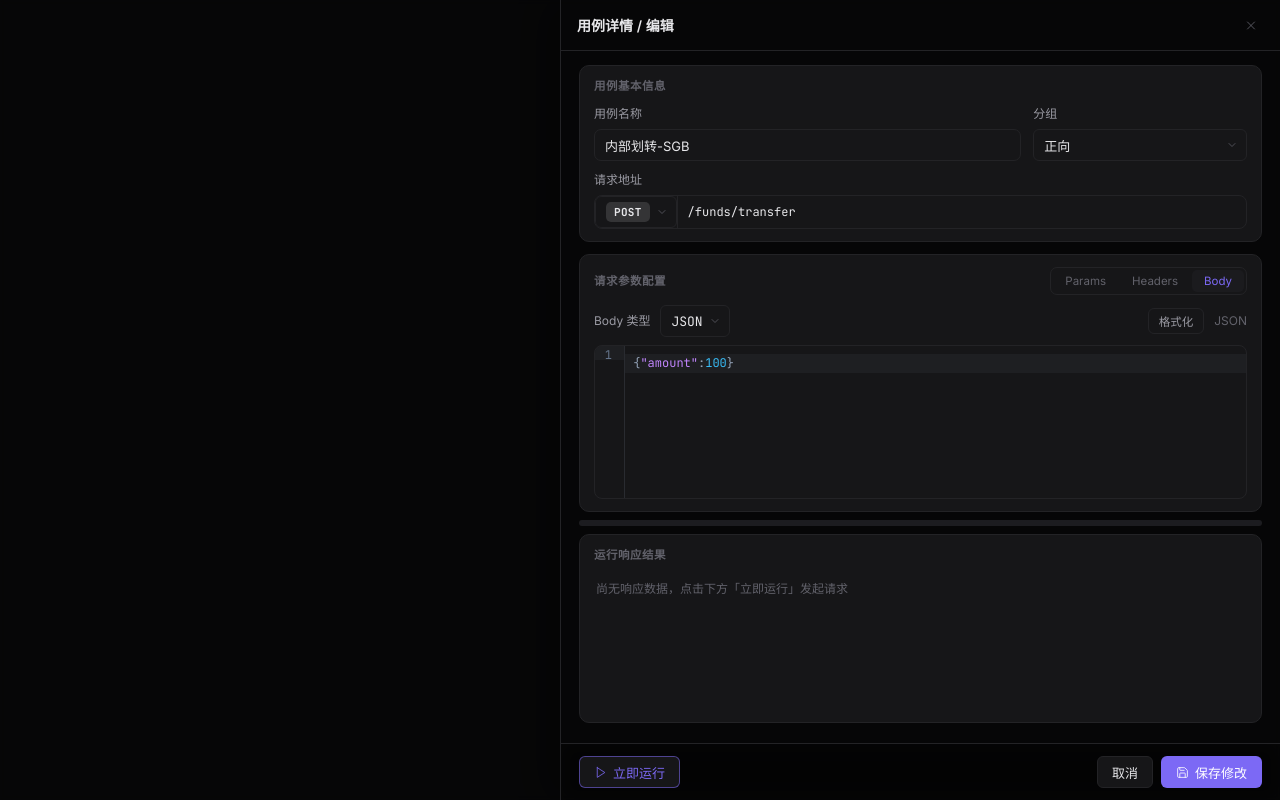
Scenario: TestCaseDrawer › Method 联动：POST 默认 Body Tab + 自动补 Content-Type；GET 默认 Params Tab + Body 提示
Expected: the tab with class "drw-tab" reads "Body", [1192,270,1244,292]
Expected: the field with class "cm-content" is shown, [625,354,1246,374]
# 自动补 Content-Type: application/json（切到 Headers Tab，输入框值可见）
Click the tab with class "drw-tab" showing "Headers" at (1155, 281), box [1120,270,1190,292]
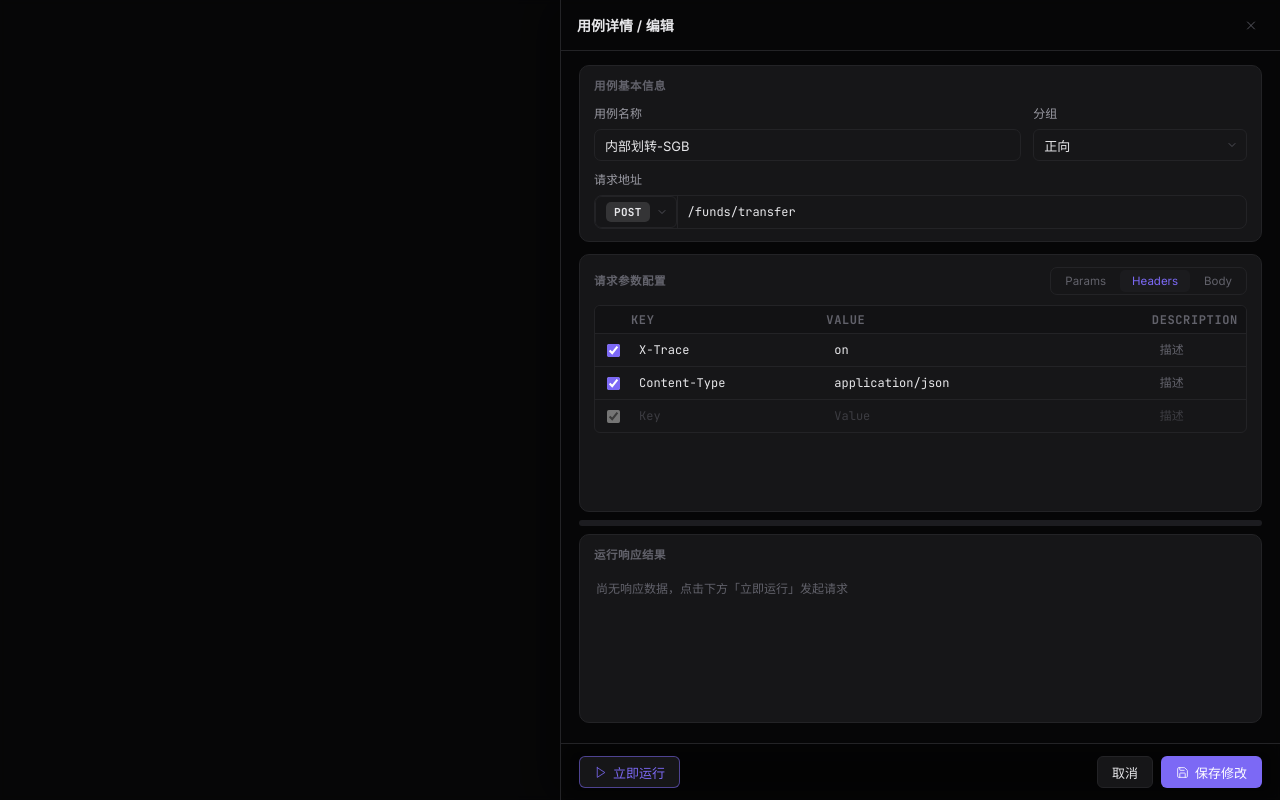
# 切到 GET → 默认 Params Tab，Body Tab 出现「不携带 Body」提示
Click the button with class "cs-trigger" showing "POST" at (636, 212), box [595,196,677,228]
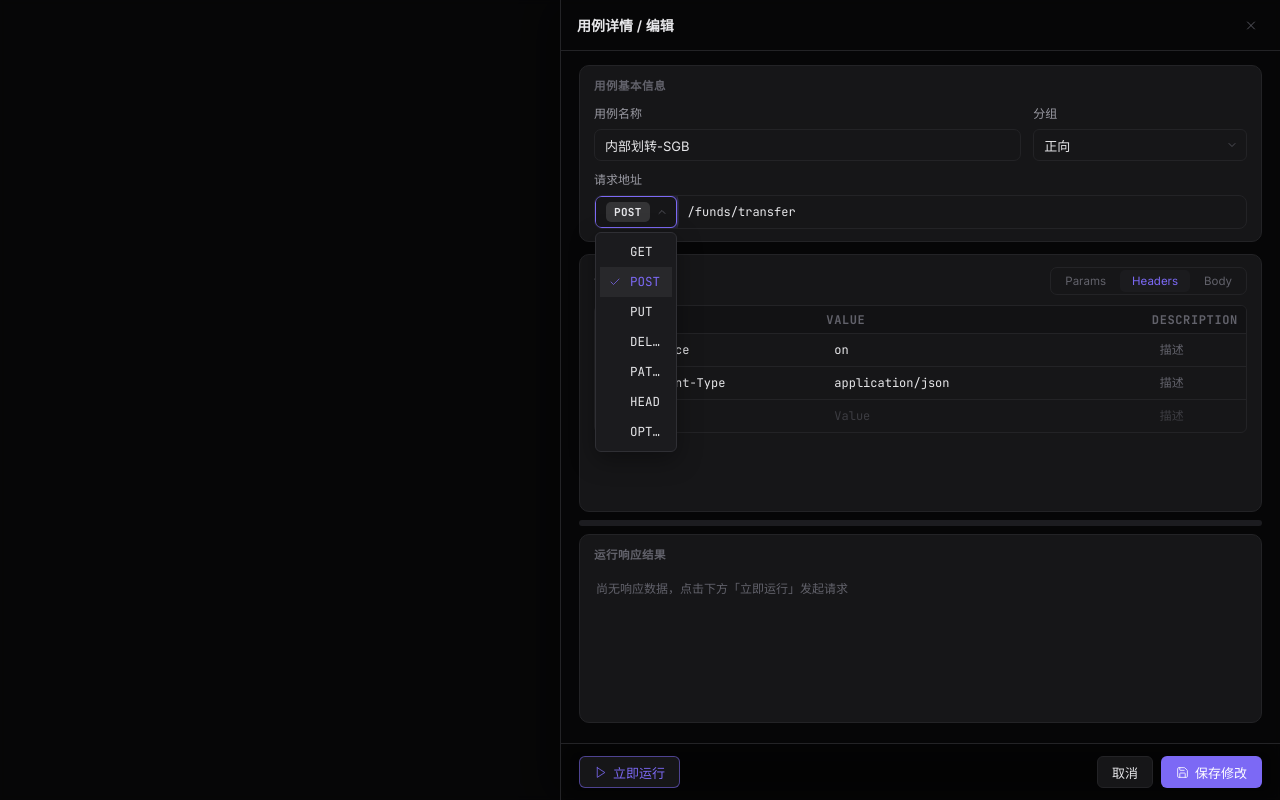
Expected: the option with class "cs-opt" showing "GET" is shown
Click the option with class "cs-opt" showing "GET" at (641, 251), box [630,243,652,260]
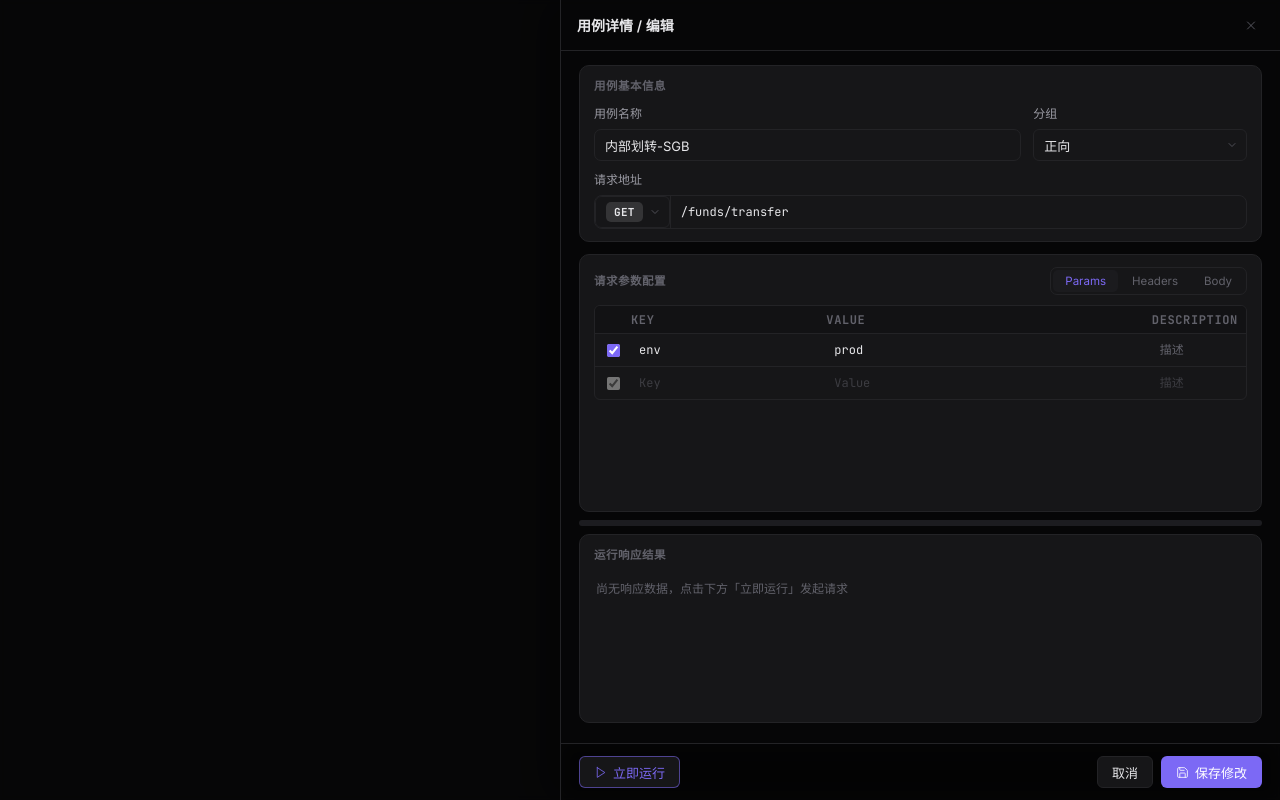
Expected: the tab with class "drw-tab" reads "Params", [1053,270,1118,292]
Click the tab with class "drw-tab" showing "Body" at (1218, 281), box [1192,270,1244,292]
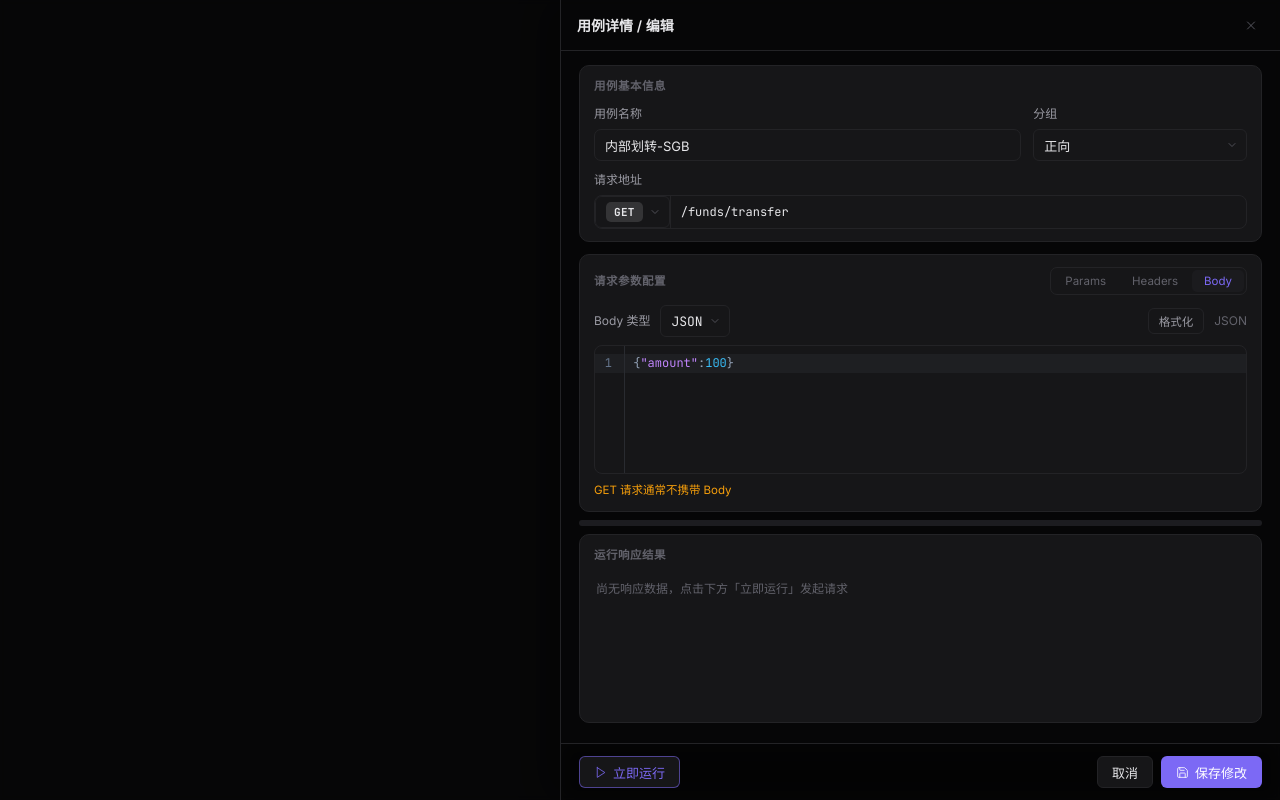
Expected: the text "GET 请求通常不携带 Body" is shown, [594,483,732,497]
